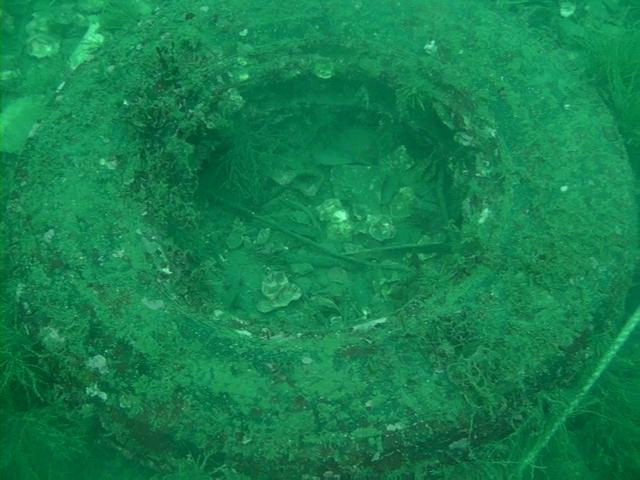rope: (507, 307, 640, 480)
tire: (0, 0, 640, 480)
